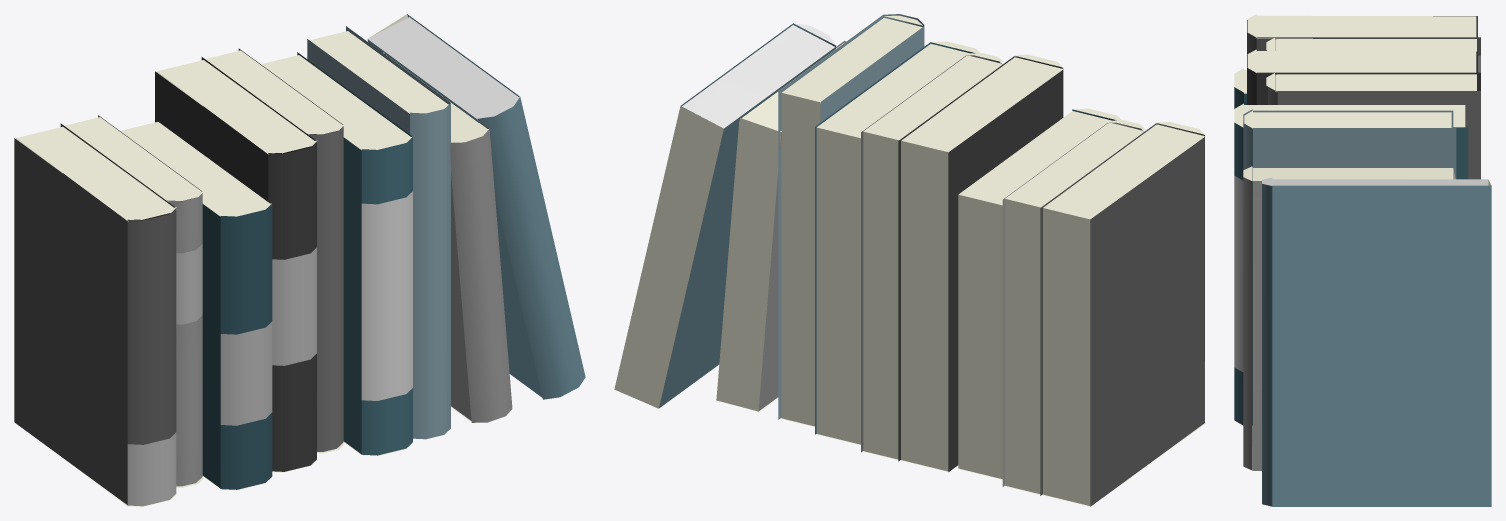
File: prop_001.glb
3 views of the same model, side by side, from view 1: azimuth 30°, elevation 25°; view 2: azimuth 150°, elevation 25°; view 3: azimuth 270°, elevation 25° (orthographic). The views are drawn at different scales.
Parts seen in each view (by area): view 1: prop_001; view 2: prop_001; view 3: prop_001.
Part boxes in pixels (bbox=[...]): prop_001: bbox=[14, 14, 585, 506]; prop_001: bbox=[614, 14, 1205, 506]; prop_001: bbox=[1234, 14, 1491, 506].
Size of the model in its own units: 0.3626 by 0.2449 by 0.1775.
Materials: 1 (1 with a texture image).
